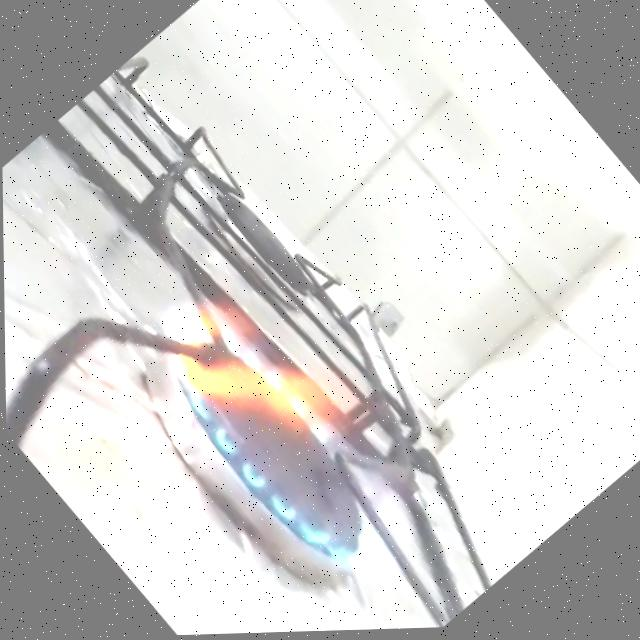Fire: (123, 235, 470, 616)
